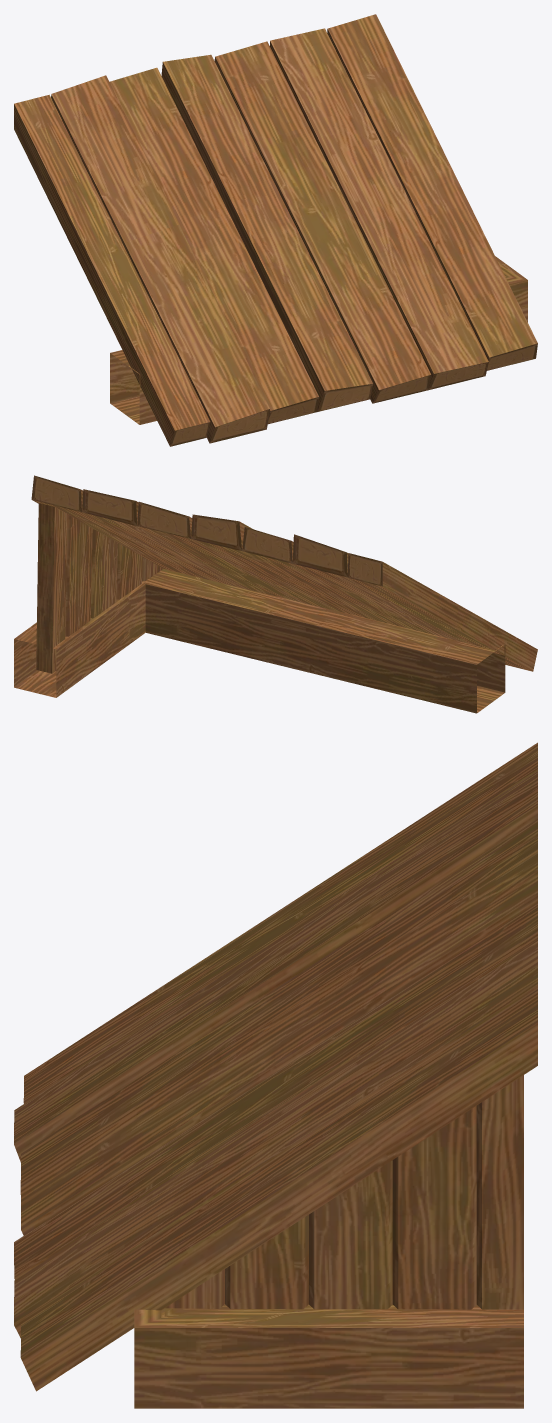
File: roof_wooden_2x1_r.glb
The picture shows the model from 3 angles, top to bottom: view 1: azimuth 30°, elevation 25°; view 2: azimuth 150°, elevation 25°; view 3: azimuth 270°, elevation 25°; orthographic projection. The views are drawn at different scales.
Bounding box in the file's own units: 2.13 × 1.25 × 1.56.
1 material, 1 textured.
